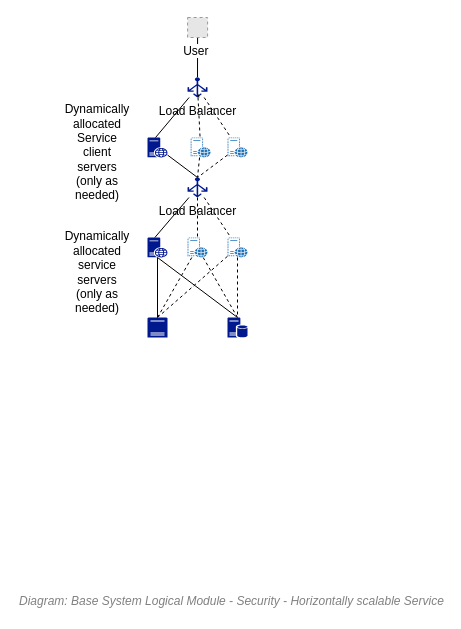
This 461x629 diagram has some shape labels left out. Grey dashed boxes stand in for pictures. The shapes that lost their labels are listed below. From the top down, each one's box as (x1, y1, x2, y2) in pixels, then its label:
(147, 317, 167, 337): cache server
(227, 317, 247, 337): Database server
